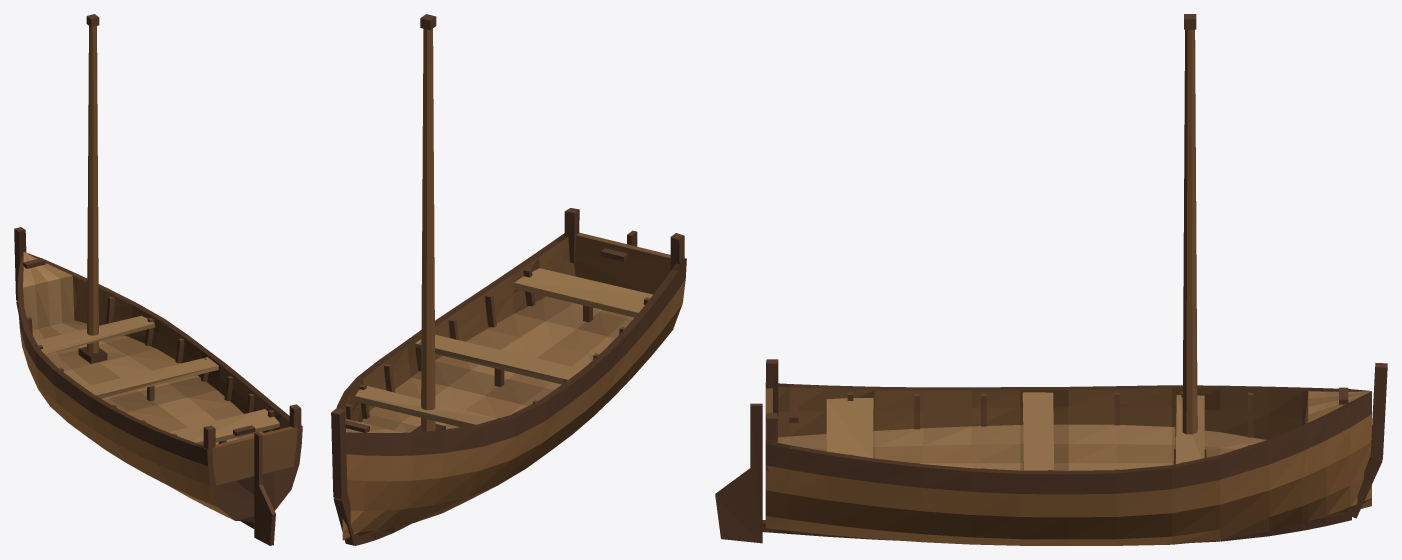
File: boat-hull.glb
3 renders of one model, left to right at view 1: azimuth 30°, elevation 25°; view 2: azimuth 150°, elevation 25°; view 3: azimuth 270°, elevation 25°, orthographic. The views are drawn at different scales.
Visible parts, largest first — view 1: boat-hull; view 2: boat-hull; view 3: boat-hull.
Boxes of the visible parts, x1,y1,x2,y2 form: boat-hull: (14,14,302,545); boat-hull: (331,14,686,545); boat-hull: (715,14,1387,545).
Bounding box in the file's own units: 2.18 × 6.12 × 7.09.
